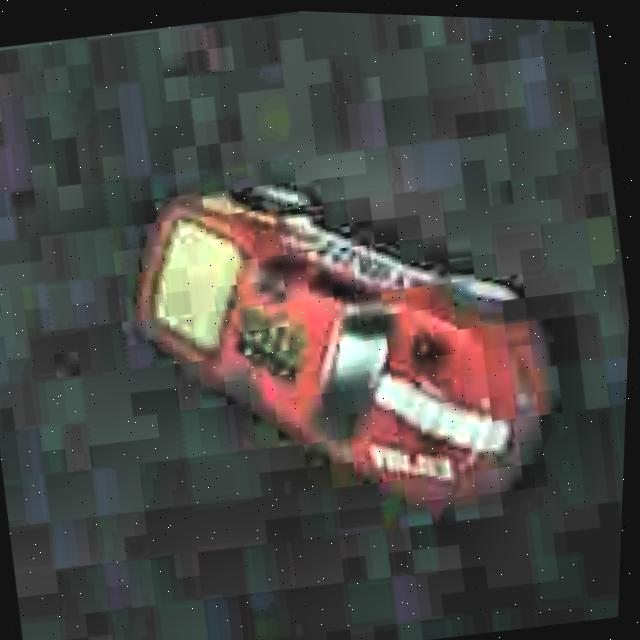car: (100, 127, 596, 560)
